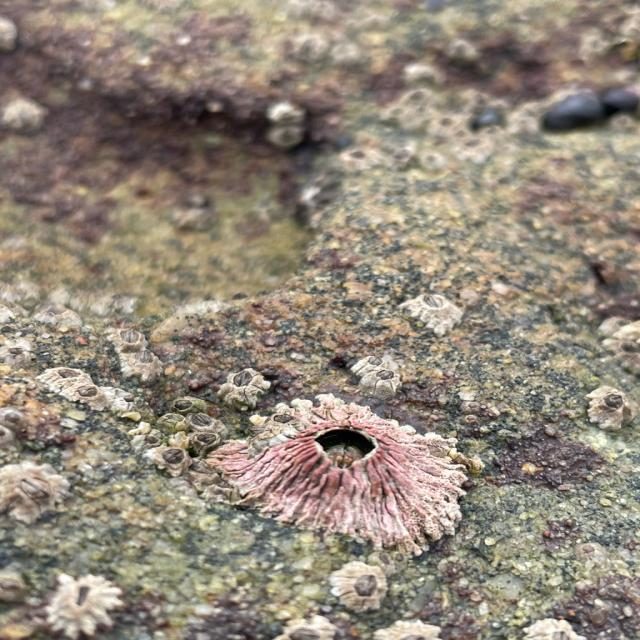barnacles: (212, 404, 477, 558), (31, 578, 130, 638), (0, 461, 73, 536), (322, 562, 396, 618), (403, 284, 474, 339), (587, 376, 639, 442), (214, 365, 266, 404), (361, 364, 405, 399)
